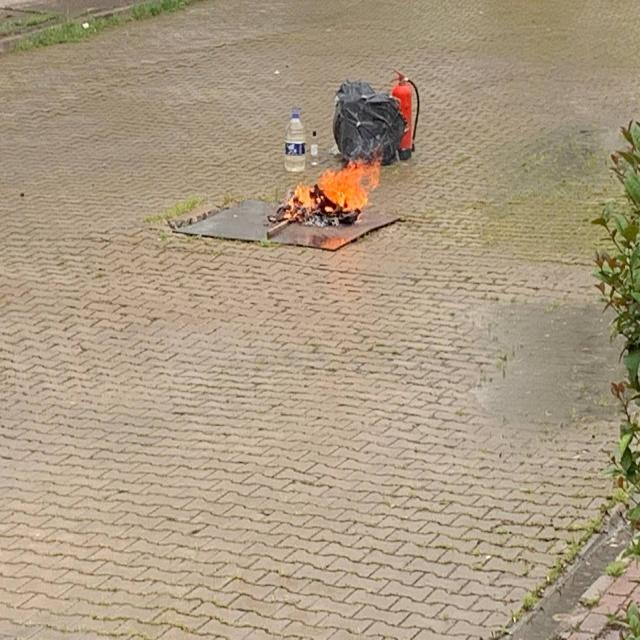fire: (274, 154, 378, 228)
